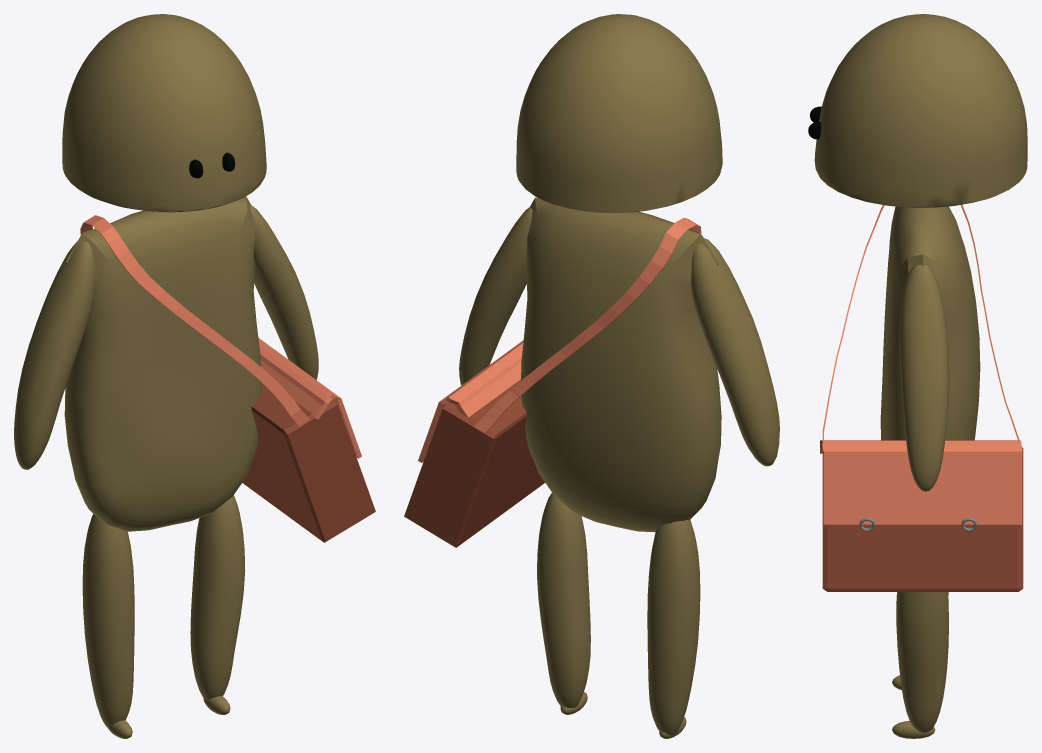
Rendered from Player_guy.fbx.
The picture shows the model from 3 angles, left to right: view 1: azimuth 30°, elevation 25°; view 2: azimuth 150°, elevation 25°; view 3: azimuth 270°, elevation 25°; orthographic projection.
Visible parts, largest first — view 1: Body, Head, Bag, Right_Arm, Right_Leg, Left_Leg, Left_Arm, Bag_Satchel, Bag_Flipper; view 2: Body, Head, Bag, Right_Arm, Right_Leg, Left_Leg, Left_Arm, Bag_Satchel, Bag_Flipper; view 3: Head, Bag_Flipper, Bag, Body, Left_Arm, Left_Leg, Bag_Satchel, Left_Foot.
Part boxes in pixels (bbox=[...]): Body: bbox=[64, 196, 262, 531]; Head: bbox=[62, 14, 266, 212]; Bag: bbox=[242, 384, 375, 542]; Right_Arm: bbox=[14, 240, 95, 469]; Right_Leg: bbox=[82, 514, 134, 727]; Left_Leg: bbox=[190, 495, 245, 700]; Left_Arm: bbox=[250, 205, 318, 379]; Bag_Satchel: bbox=[80, 215, 309, 426]; Bag_Flipper: bbox=[258, 338, 361, 458]; Body: bbox=[521, 197, 721, 532]; Head: bbox=[516, 14, 722, 212]; Bag: bbox=[404, 379, 544, 547]; Right_Arm: bbox=[691, 238, 779, 466]; Right_Leg: bbox=[647, 520, 700, 735]; Left_Leg: bbox=[537, 493, 590, 708]; Left_Arm: bbox=[459, 207, 532, 385]; Bag_Satchel: bbox=[474, 217, 701, 432]; Bag_Flipper: bbox=[418, 340, 523, 462]; Head: bbox=[814, 14, 1027, 207]; Bag_Flipper: bbox=[820, 440, 1022, 524]; Bag: bbox=[822, 447, 1023, 591]; Body: bbox=[880, 206, 980, 440]; Left_Arm: bbox=[899, 264, 949, 491]; Left_Leg: bbox=[896, 592, 948, 732]; Bag_Satchel: bbox=[822, 204, 1022, 449]; Left_Foot: bbox=[892, 721, 935, 738].
Size of the model in its own units: 304 by 647 by 185.
